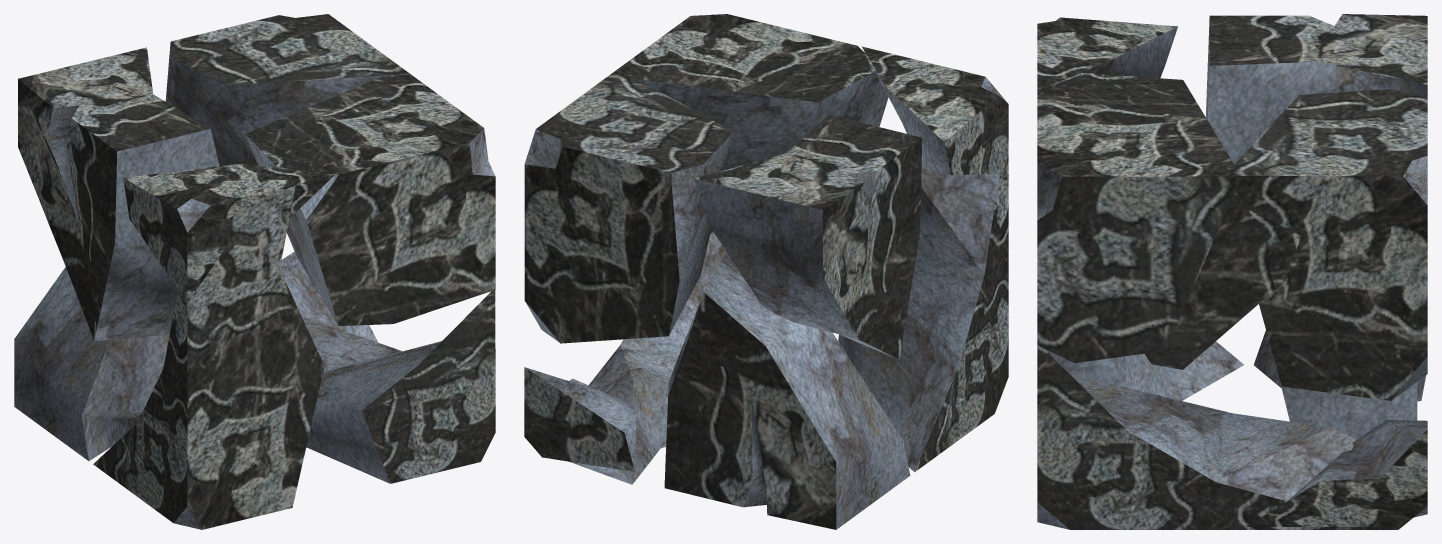
Rendered from EnemyStonePieces.gltf.
3 views of the same model, side by side, from view 1: azimuth 30°, elevation 25°; view 2: azimuth 150°, elevation 25°; view 3: azimuth 270°, elevation 25° (orthographic). The views are drawn at different scales.
Visible parts, largest first — view 1: EnemyStonePiece4, EnemyStonePiece1, EnemyStonePiece7, EnemyStonePiece9, EnemyStonePiece6, EnemyStonePiece2, EnemyStonePiece3, EnemyStonePiece8; view 2: EnemyStonePiece6, EnemyStonePiece2, EnemyStonePiece7, EnemyStonePiece4, EnemyStonePiece1, EnemyStonePiece3, EnemyStonePiece8, EnemyStonePiece9; view 3: EnemyStonePiece6, EnemyStonePiece1, EnemyStonePiece9, EnemyStonePiece7, EnemyStonePiece8, EnemyStonePiece5, EnemyStonePiece3, EnemyStonePiece2, EnemyStonePiece4.
Part boxes in pixels (left/top/right/bottom): EnemyStonePiece4: left=93, top=185, right=324, bottom=529; EnemyStonePiece1: left=245, top=74, right=495, bottom=325; EnemyStonePiece7: left=18, top=47, right=219, bottom=341; EnemyStonePiece9: left=301, top=290, right=495, bottom=483; EnemyStonePiece6: left=165, top=14, right=409, bottom=165; EnemyStonePiece2: left=14, top=267, right=169, bottom=460; EnemyStonePiece3: left=123, top=164, right=334, bottom=302; EnemyStonePiece8: left=280, top=251, right=377, bottom=342; EnemyStonePiece6: left=524, top=69, right=733, bottom=343; EnemyStonePiece2: left=664, top=252, right=910, bottom=529; EnemyStonePiece7: left=694, top=115, right=922, bottom=359; EnemyStonePiece4: left=838, top=167, right=1008, bottom=472; EnemyStonePiece1: left=617, top=14, right=888, bottom=169; EnemyStonePiece3: left=862, top=46, right=1008, bottom=174; EnemyStonePiece8: left=524, top=367, right=636, bottom=471; EnemyStonePiece9: left=569, top=232, right=726, bottom=484; EnemyStonePiece6: left=1223, top=89, right=1427, bottom=400; EnemyStonePiece1: left=1037, top=73, right=1241, bottom=362; EnemyStonePiece9: left=1037, top=345, right=1392, bottom=529; EnemyStonePiece7: left=1205, top=14, right=1427, bottom=164; EnemyStonePiece8: left=1246, top=420, right=1427, bottom=529; EnemyStonePiece5: left=1145, top=201, right=1300, bottom=369; EnemyStonePiece3: left=1037, top=17, right=1177, bottom=92; EnemyStonePiece2: left=1254, top=330, right=1425, bottom=439; EnemyStonePiece4: left=1037, top=341, right=1243, bottom=400.
Bounding box in the file's own units: 2 × 2 × 2.
2 materials, 2 textured.
